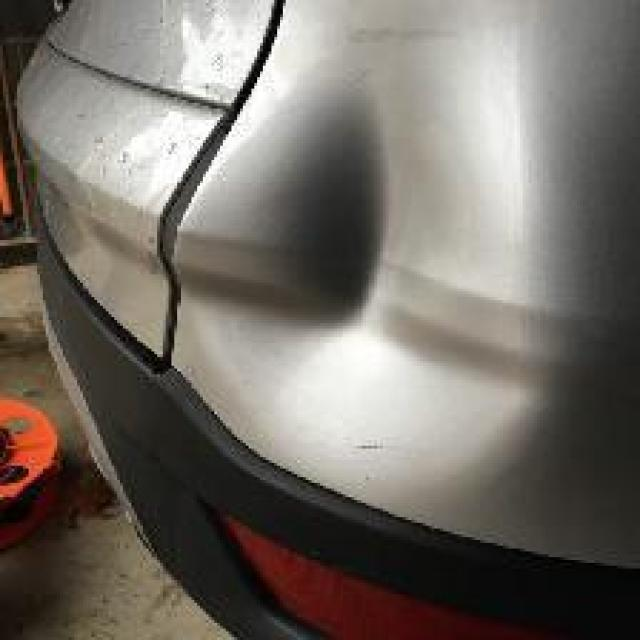damaged: (175, 89, 554, 478)
